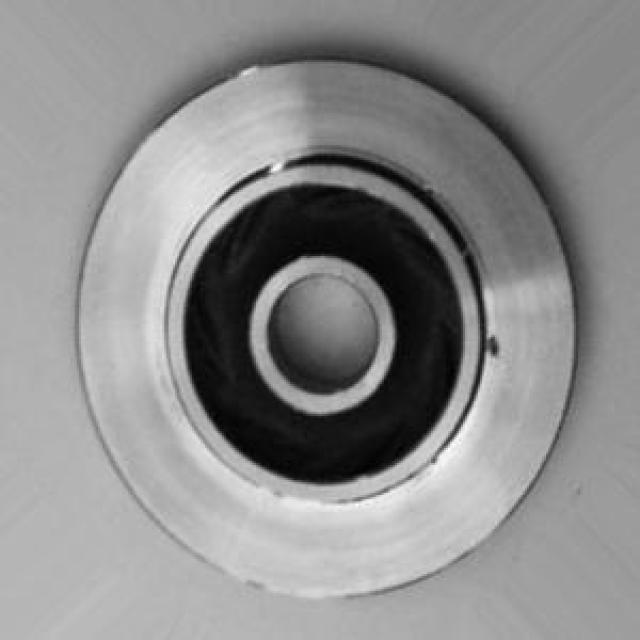Defect: (477, 332, 519, 375)
